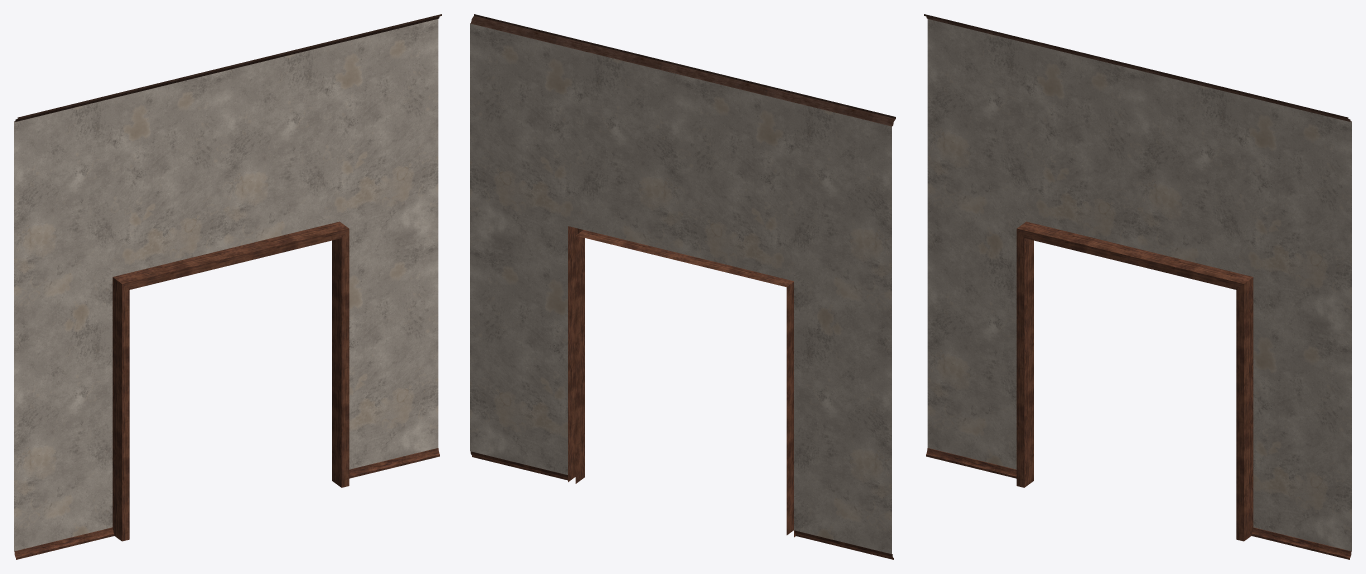
File: SM_Wall_DoorFrame.fbx
3 views of the same model, side by side, from view 1: azimuth 30°, elevation 25°; view 2: azimuth 150°, elevation 25°; view 3: azimuth 330°, elevation 25° (orthographic).
Parts seen in each view (by area): view 1: SM_Wall_DoorFrame; view 2: SM_Wall_DoorFrame; view 3: SM_Wall_DoorFrame.
Boxes of the visible parts, <box> form: SM_Wall_DoorFrame: <box>14,14,441,559</box>; SM_Wall_DoorFrame: <box>470,14,895,559</box>; SM_Wall_DoorFrame: <box>924,14,1351,559</box>.
Bounding box in the file's own units: 400 × 400 × 15.51.
